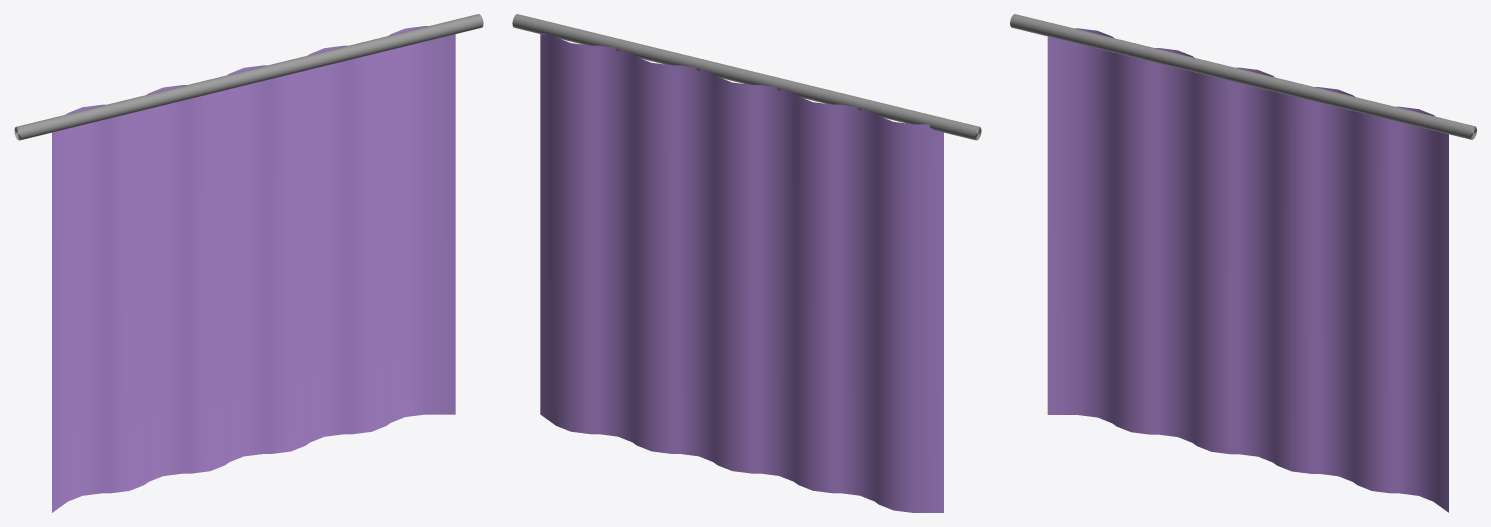
The model's file is curtain_closed.glb.
The picture shows the model from 3 angles, left to right: view 1: azimuth 30°, elevation 25°; view 2: azimuth 150°, elevation 25°; view 3: azimuth 330°, elevation 25°; orthographic projection.
Parts seen in each view (by area): view 1: Cylinder.011; view 2: Cylinder.011; view 3: Cylinder.011.
Part boxes in pixels (x1,y1,x2,y2): Cylinder.011: (14, 14, 483, 512); Cylinder.011: (512, 14, 981, 512); Cylinder.011: (1010, 14, 1476, 512).
Size of the model in its own units: 3.42 by 2.79 by 0.1733.
Materials: 2 (2 with a texture image).
